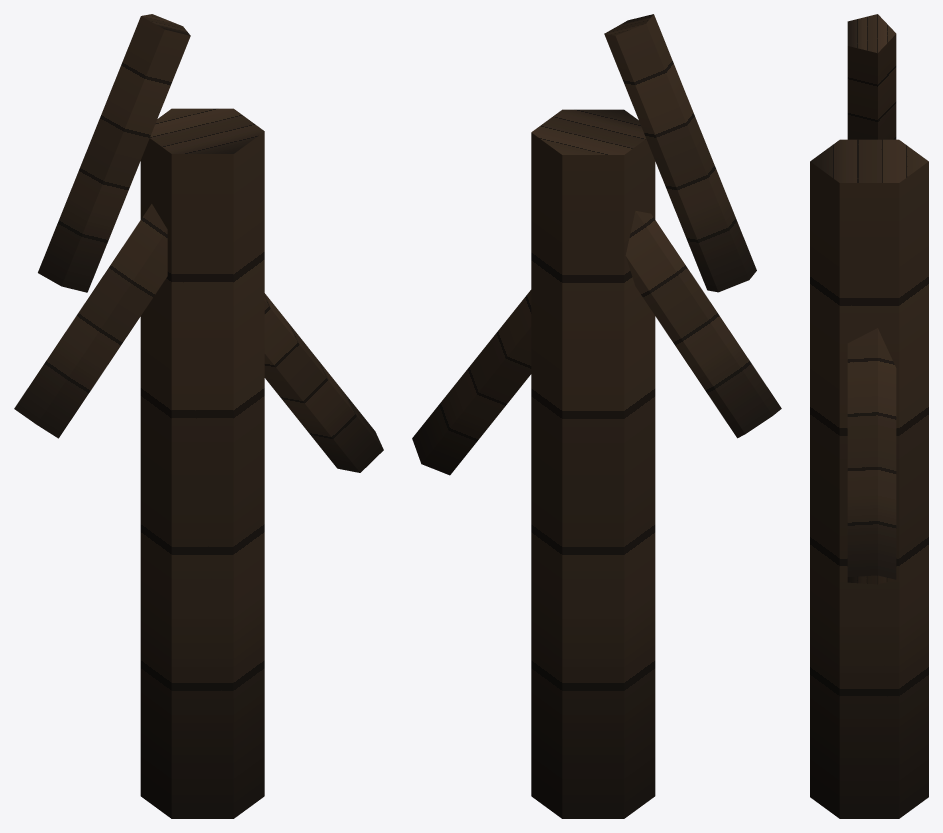
The model's file is tree_dead.glb.
The picture shows the model from 3 angles, left to right: view 1: azimuth 30°, elevation 25°; view 2: azimuth 150°, elevation 25°; view 3: azimuth 270°, elevation 25°; orthographic projection. The views are drawn at different scales.
Parts seen in each view (by area): view 1: tree_dead; view 2: tree_dead; view 3: tree_dead.
Boxes of the visible parts, left/top/right/bottom form: tree_dead: left=14, top=14, right=383, bottom=818; tree_dead: left=412, top=14, right=781, bottom=818; tree_dead: left=810, top=14, right=928, bottom=818.
Bounding box in the file's own units: 0.7395 × 1.55 × 0.22.
Materials: 1 (1 with a texture image).
